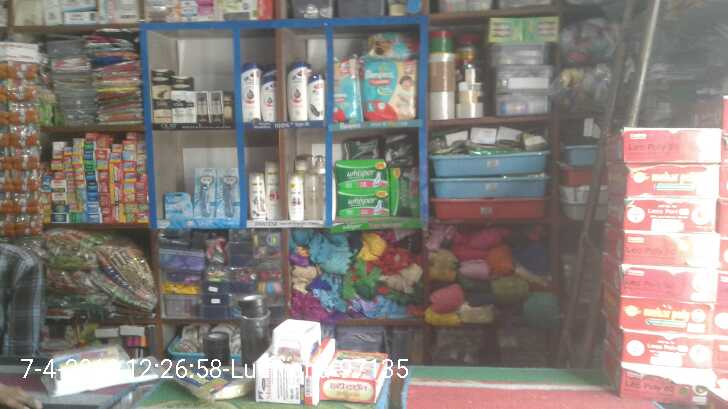venus: (216, 167, 238, 217), (195, 167, 216, 217), (164, 191, 193, 219)
